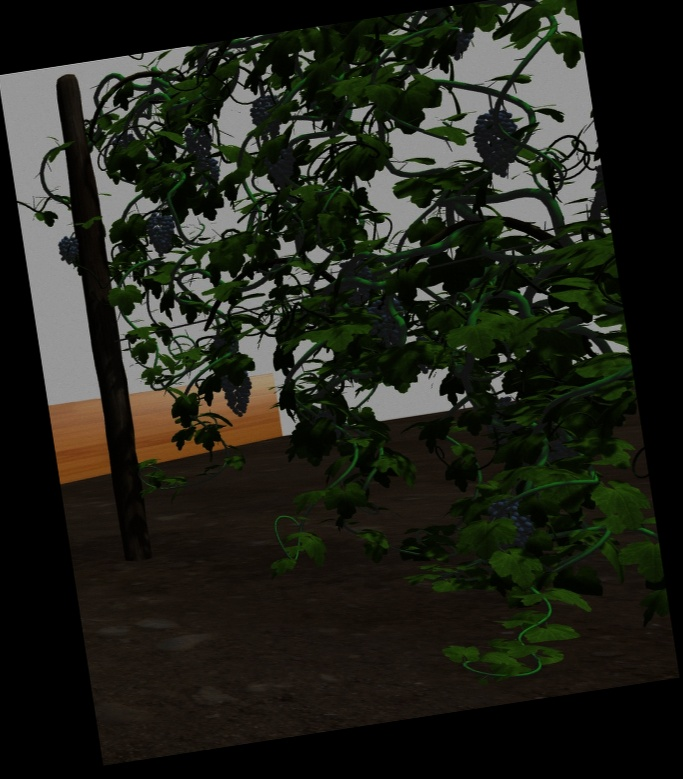grape: (473, 109, 521, 176), (489, 497, 532, 549), (370, 295, 406, 345), (221, 368, 254, 417), (145, 210, 177, 254), (260, 145, 296, 184), (250, 94, 282, 135), (184, 127, 212, 158), (194, 155, 221, 184), (57, 233, 80, 267)
